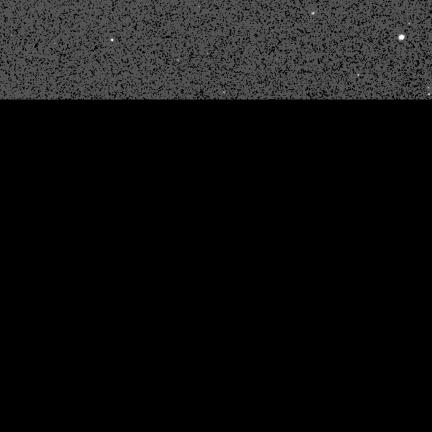blob: (399, 35, 405, 41), (111, 39, 114, 42)
